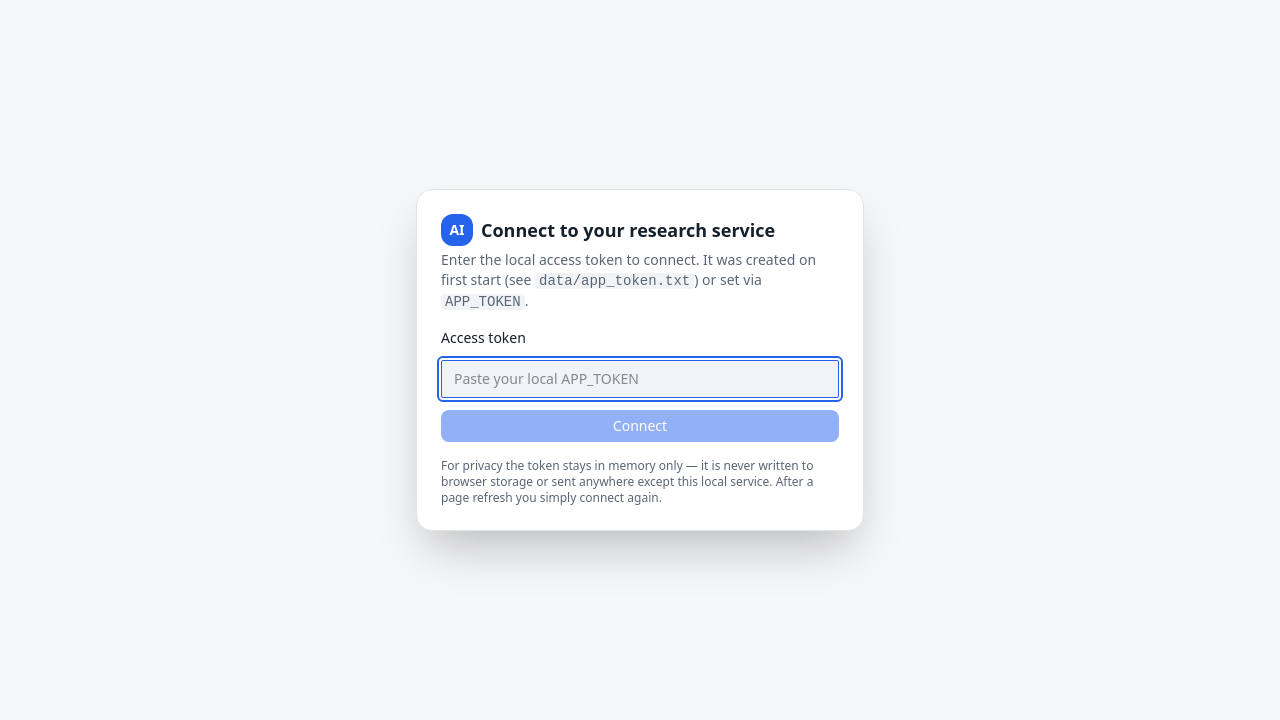
Test: research settings composer › shows friendly copy when the backend rejects the selection
Type "test-token-123" into the password field labelled "Access token" at (640, 379), box [441,360,839,398]
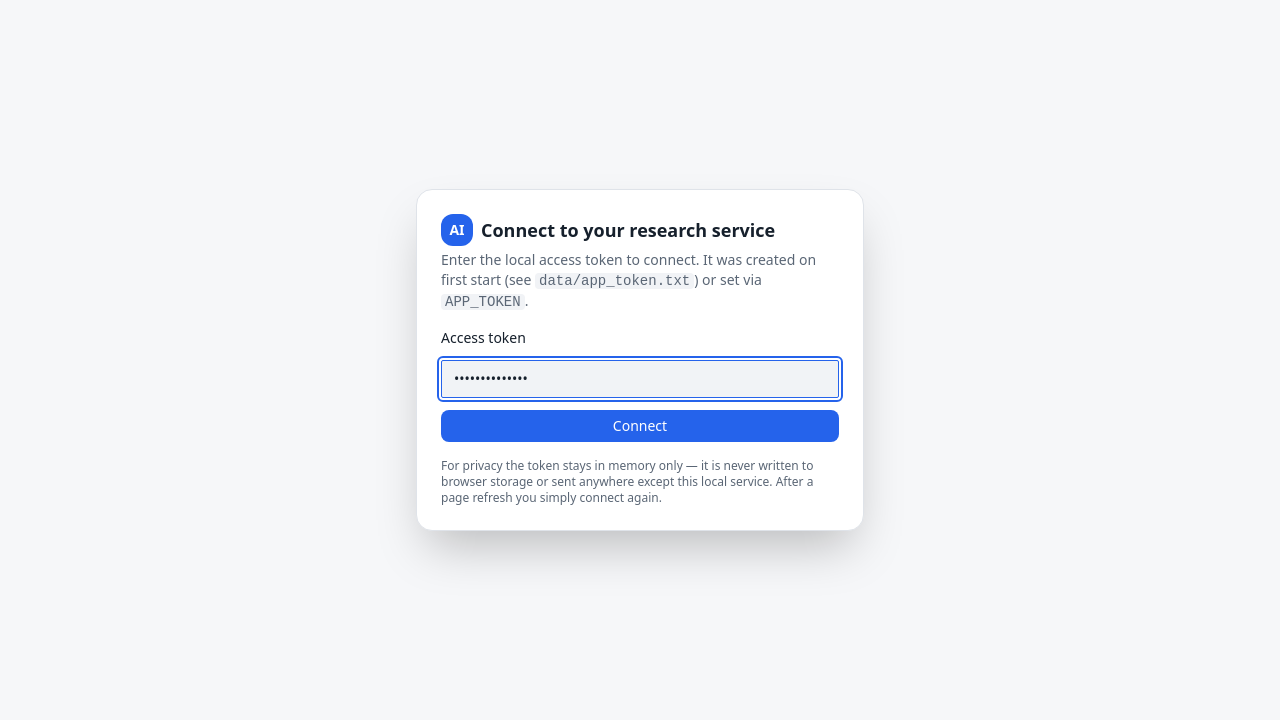
Click the button "Connect" at (640, 426), box [441,410,839,442]
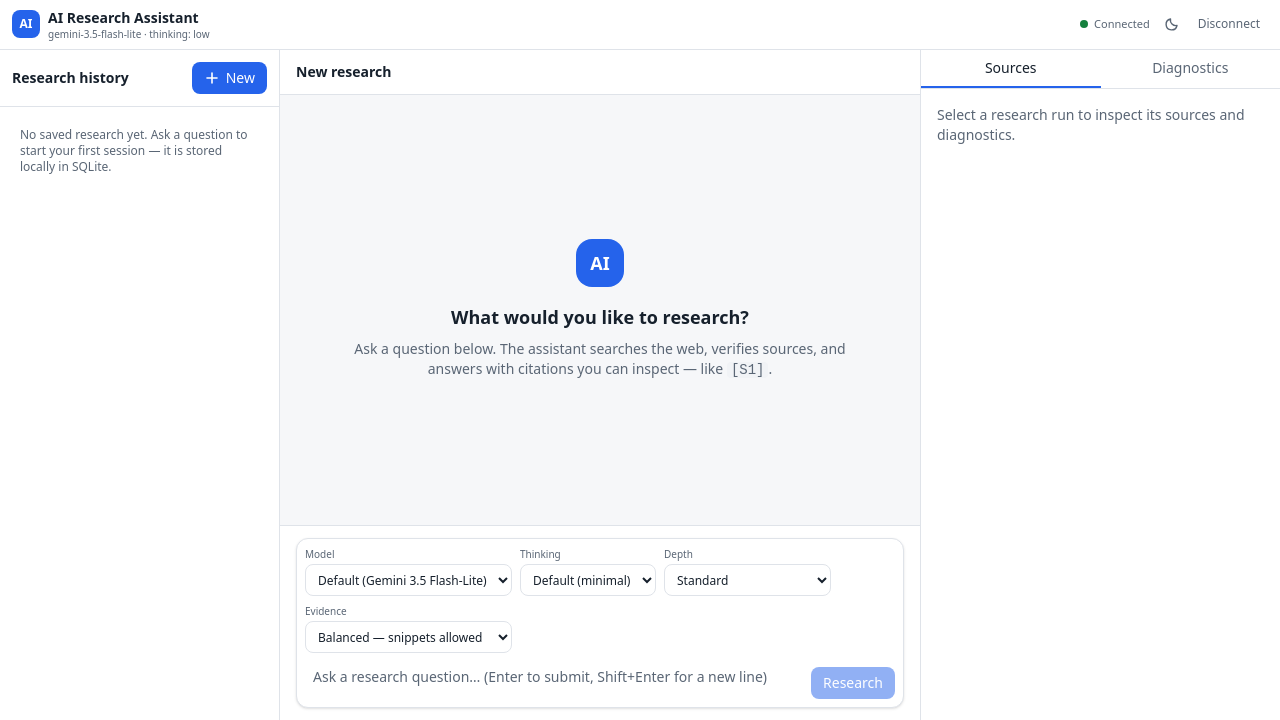
Check: the heading "What would you like to research?" is shown, box [451,303,749,331]
Type "Bad pick" into the text box labelled "research question" at (554, 680), box [305,661,803,699]
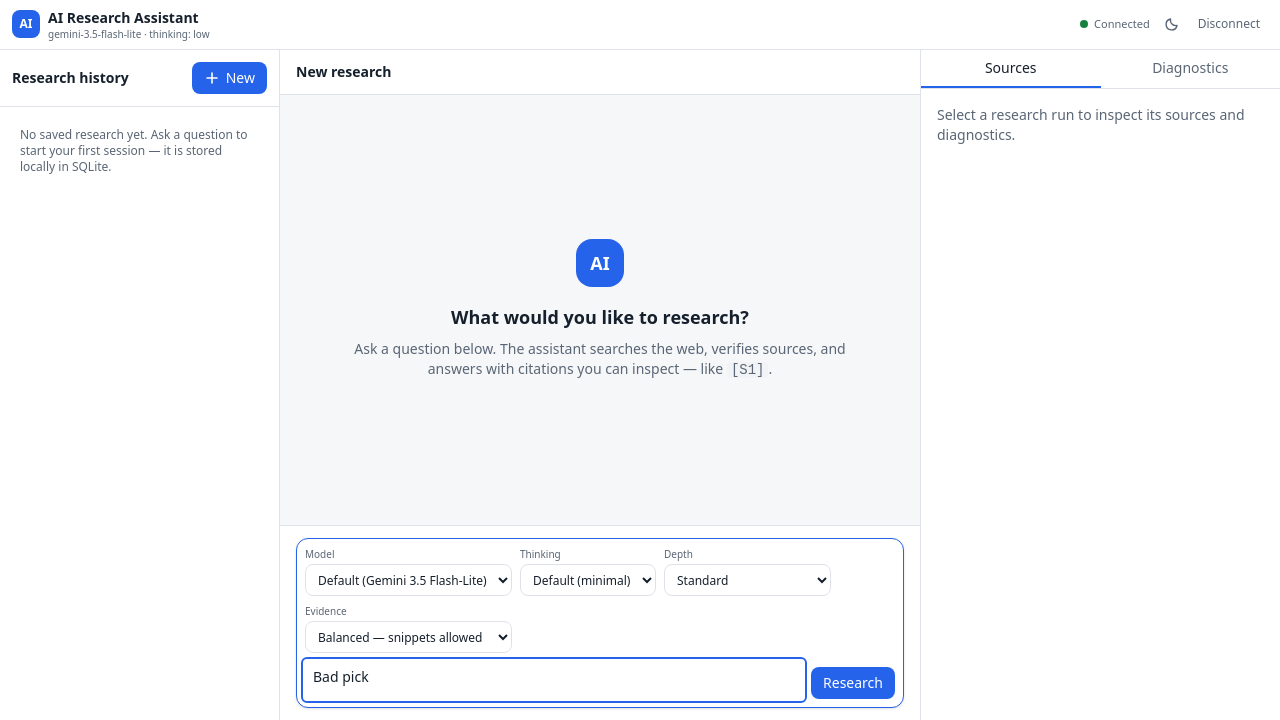
Click the button with aria-label "Start research" at (853, 683), box [811,667,895,699]
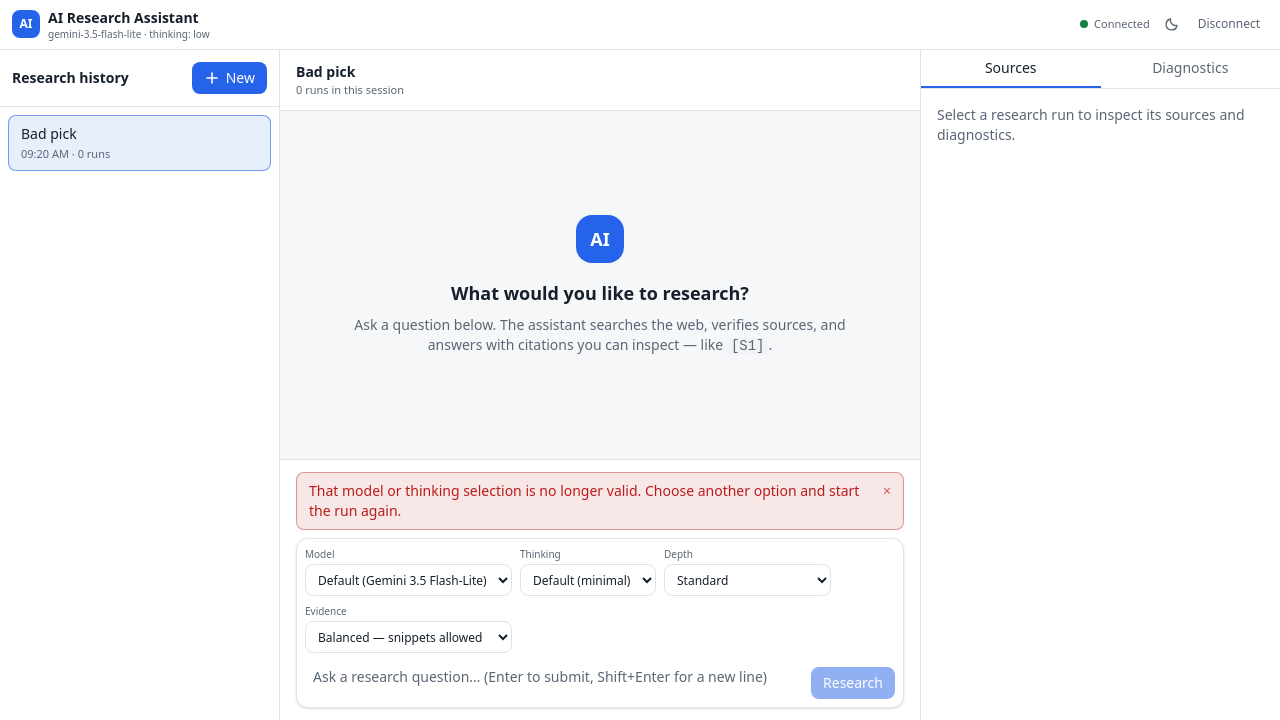
Check: the message shows "That model or thinking selection is no longer valid.", box [309,481,859,520]
